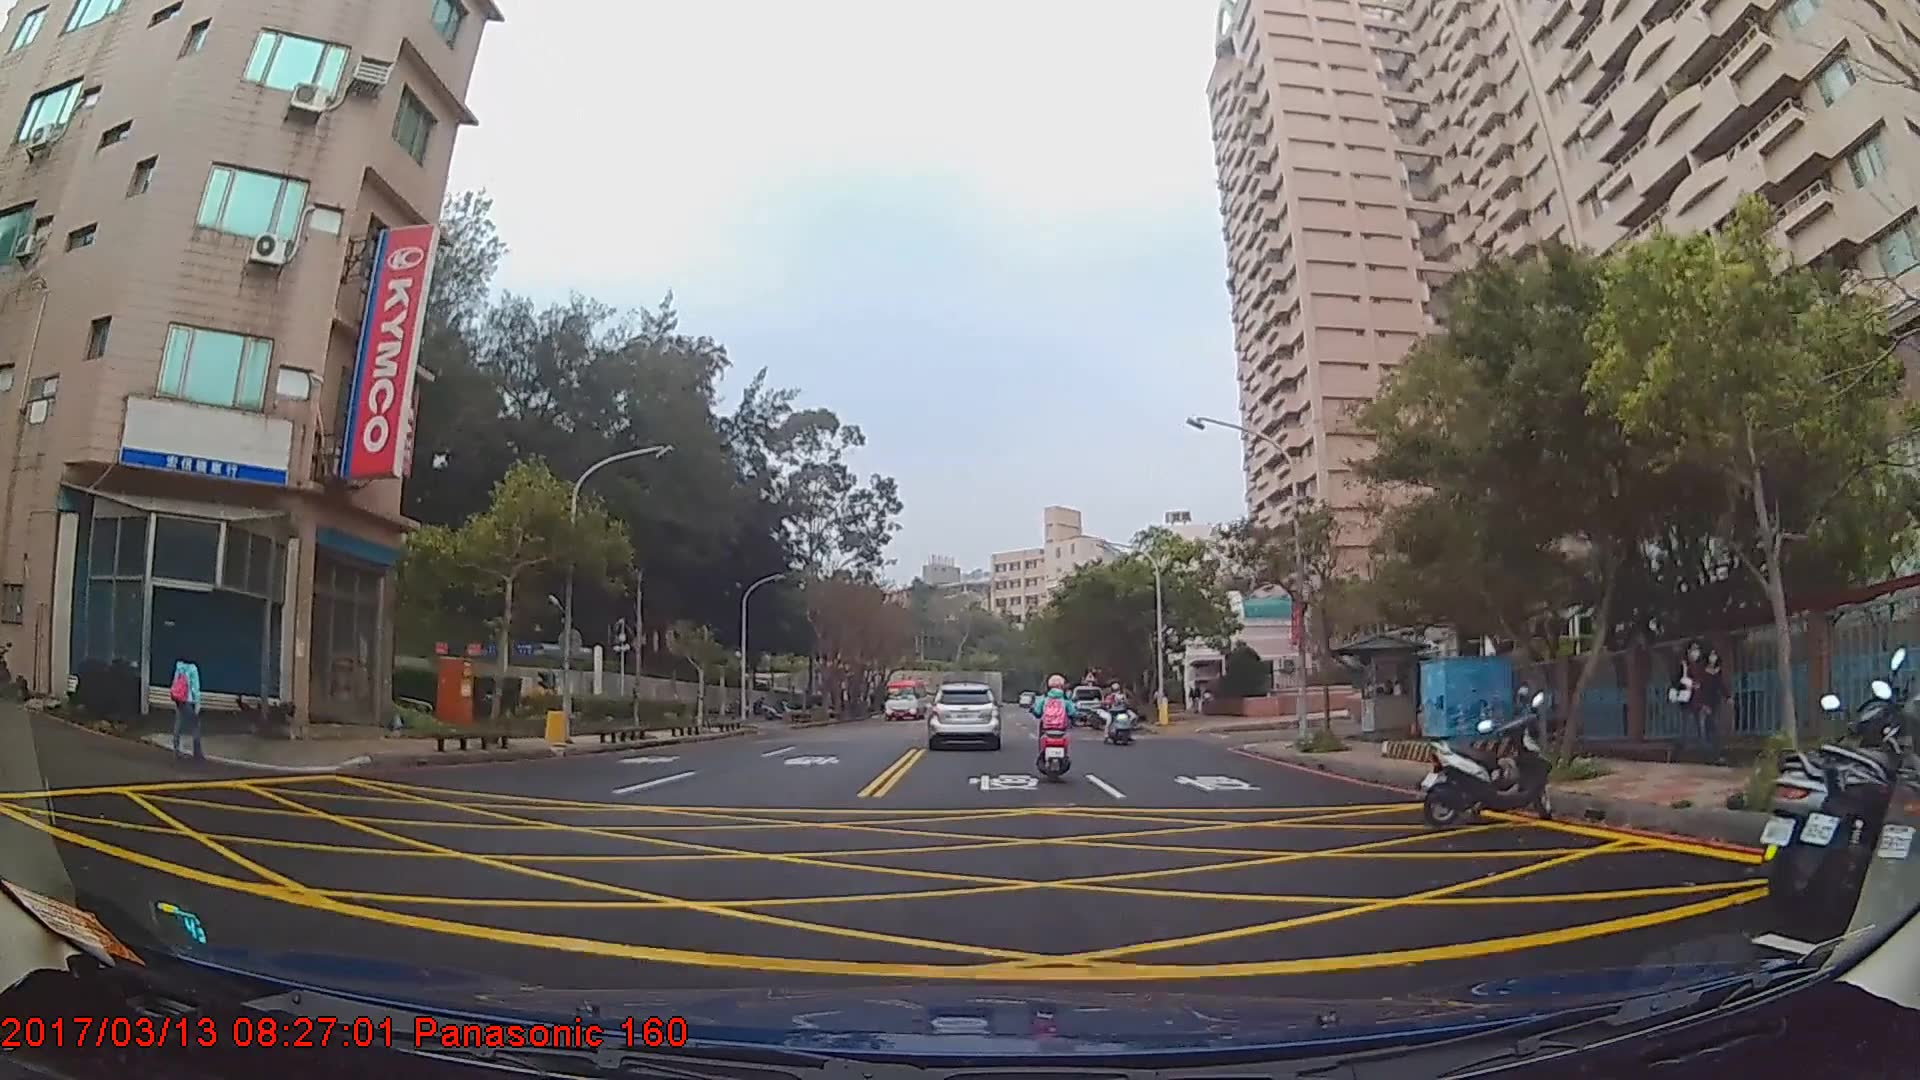pedestrian: (1668, 642, 1714, 767), (165, 642, 209, 763), (1691, 647, 1731, 769)
rider: (1031, 678, 1074, 789), (1102, 683, 1134, 742)
vehicle: (924, 680, 998, 745), (881, 677, 928, 722)
